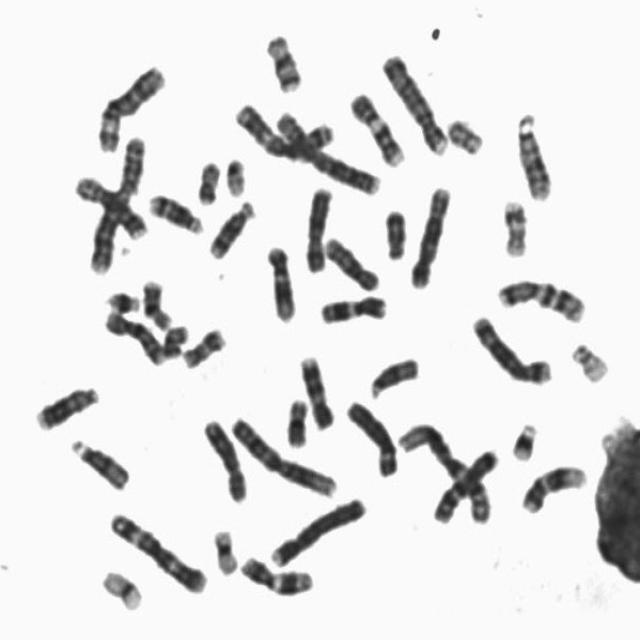A1: (390, 413, 495, 525), (222, 407, 340, 500)
A2: (269, 102, 383, 196), (81, 126, 149, 276)
A3: (102, 502, 210, 596), (228, 92, 336, 162)
B4: (375, 43, 451, 157), (262, 488, 368, 569)
B5: (464, 306, 554, 386), (403, 176, 454, 290)
C10: (97, 302, 167, 367), (318, 228, 382, 292)
C11: (233, 546, 316, 597), (313, 286, 390, 325)
C12: (514, 456, 590, 516), (260, 236, 299, 324)
C6: (90, 55, 168, 154), (338, 391, 401, 478)
C7: (428, 439, 502, 526), (489, 268, 589, 324)
C8: (66, 166, 149, 241), (196, 409, 250, 503)
C9: (343, 82, 408, 168), (292, 346, 336, 432)
D13: (508, 103, 554, 203), (29, 376, 101, 432)
D14: (202, 191, 257, 261), (142, 183, 206, 236)
D15: (63, 428, 133, 492), (361, 348, 422, 400)
E16: (260, 34, 306, 98), (136, 270, 175, 332)
E17: (175, 318, 229, 370), (495, 190, 531, 259)
E18: (377, 200, 409, 261), (279, 390, 311, 450)
F19: (93, 561, 145, 612), (205, 519, 241, 578)
F20: (440, 108, 486, 156), (189, 151, 223, 206)
G21: (503, 412, 541, 463), (100, 280, 144, 314)
G22: (563, 332, 612, 385), (218, 148, 249, 198)
X: (298, 178, 336, 274)
